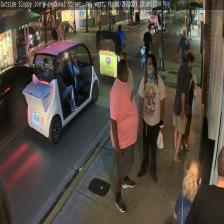person: (109, 59, 138, 210), (137, 53, 166, 179), (172, 53, 195, 162), (172, 158, 203, 224)
